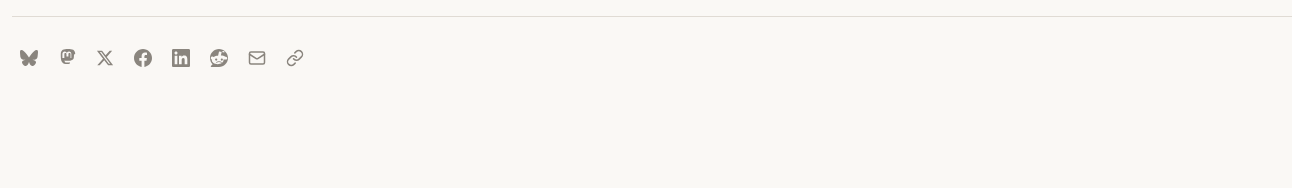
Test: ShareBar › shows mastodon instance prompt when mastodon button clicked and no saved instance
The width and height of the screenshot is (1292, 188).
Click the button named "Share on Mastodon" at (67, 58), box 50,41 -> 84,75
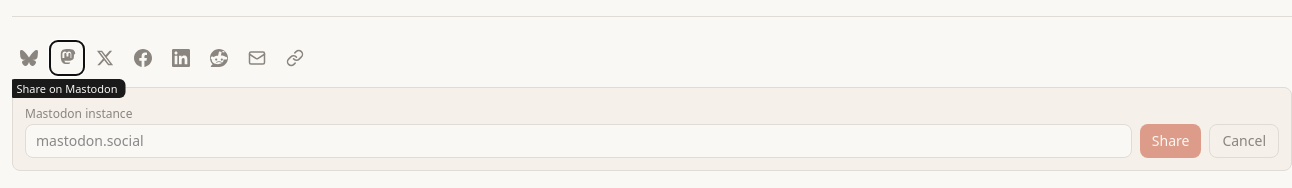
expect the field with placeholder "mastodon.social" is shown: met, box 25,124 -> 1132,158
